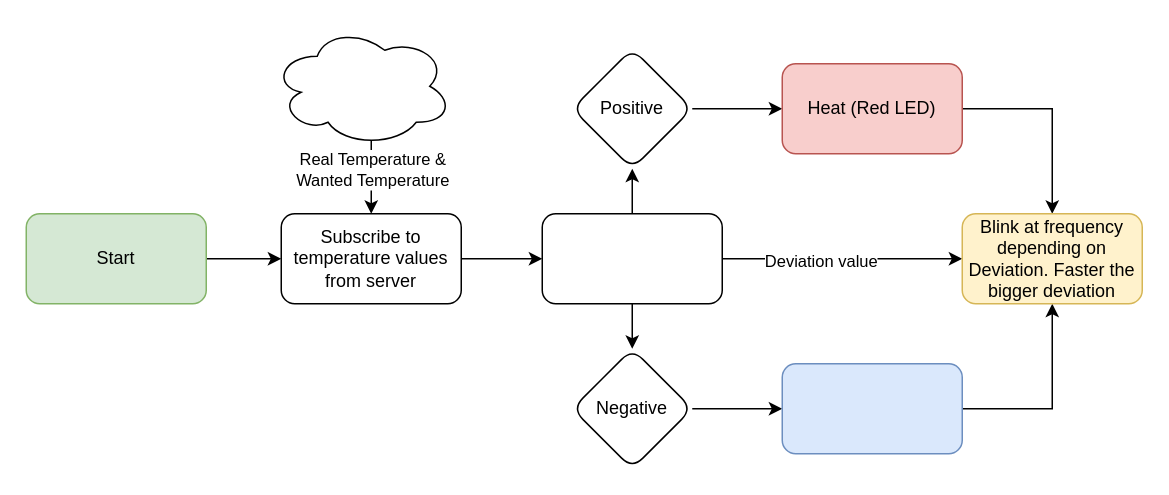
This 1169x495 diagram has some shape labels left out. Each missing label, with the box of its shape:
Cool (Blue LED): (781, 362, 962, 454)
Deviation (Wanted temperature - Real temperature) negative or positive?: (541, 212, 722, 304)
Server: (271, 25, 452, 146)
